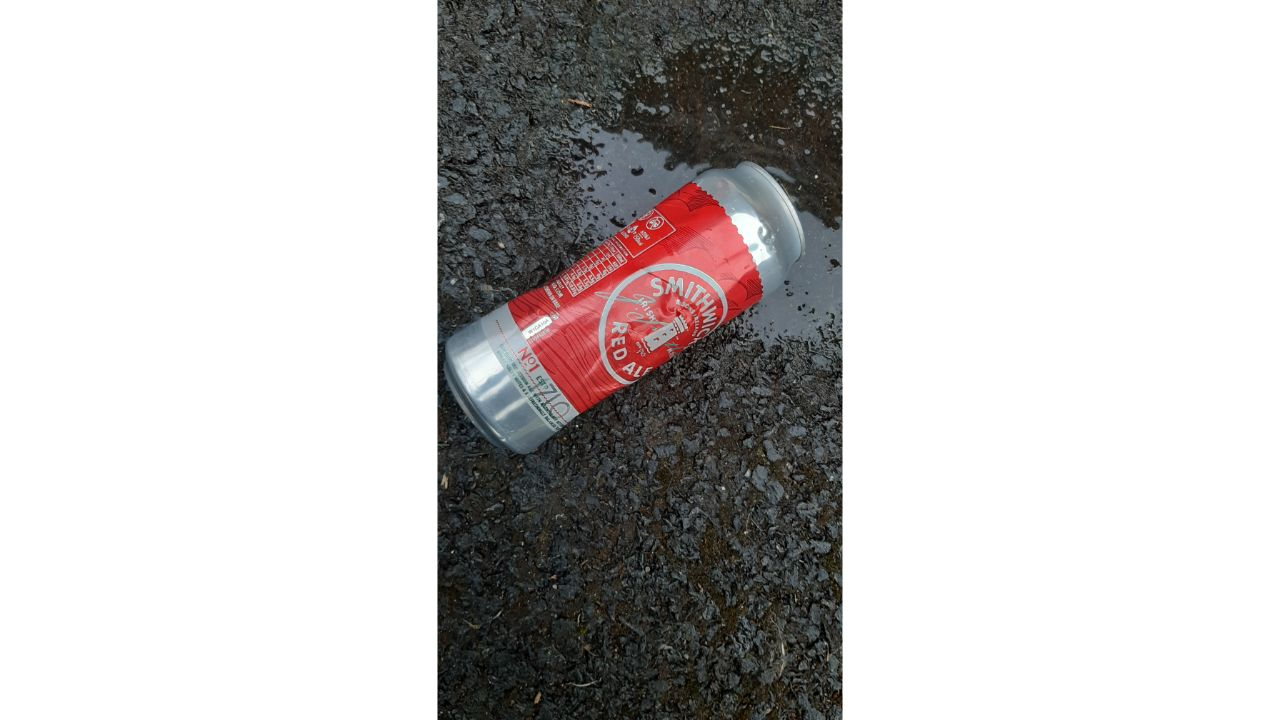Can: (439, 156, 805, 461)
